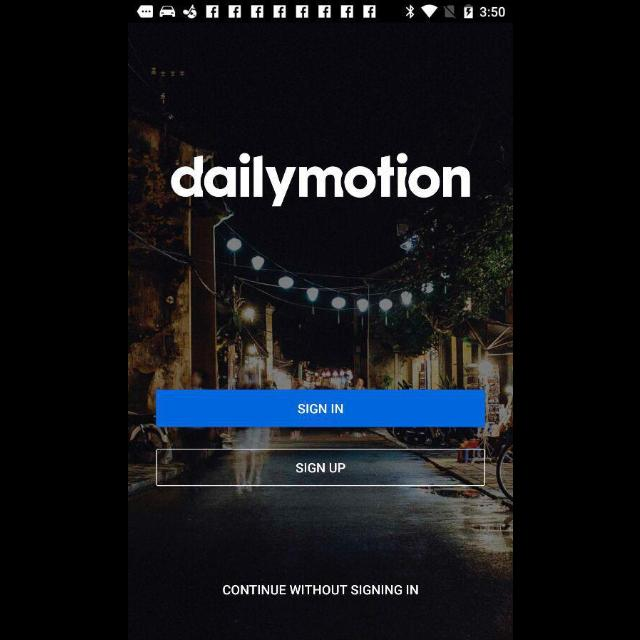backgroundimage: (128, 20, 512, 640)
image: (170, 153, 470, 207)
text: (222, 584, 418, 596)
textbutton: (155, 390, 485, 428), (156, 449, 484, 486)
uppertaskbar: (128, 1, 512, 20)
